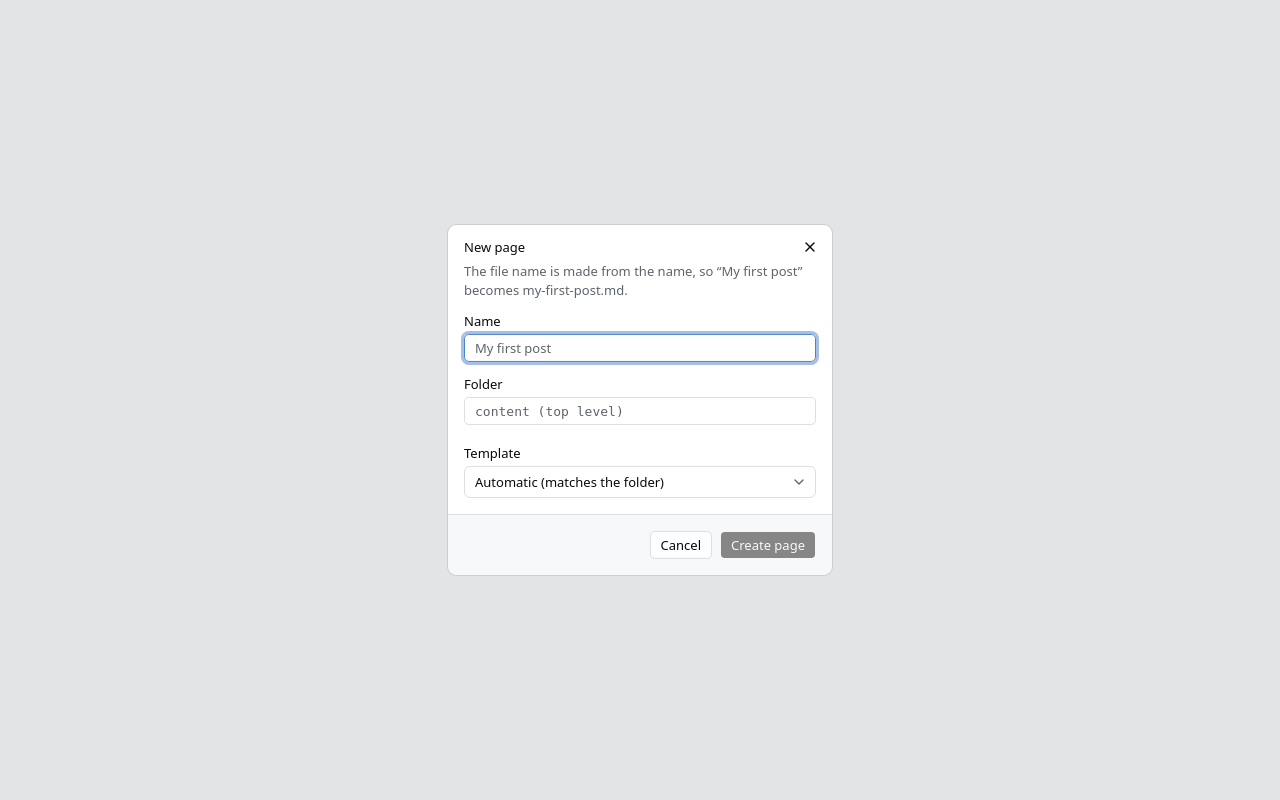
Test: NewPageDialog › shows the backend message and stays open when creating fails
Type "Taken" into the field labelled "Name".
click(640, 348); type("Taken")  # box [464, 334, 816, 362]
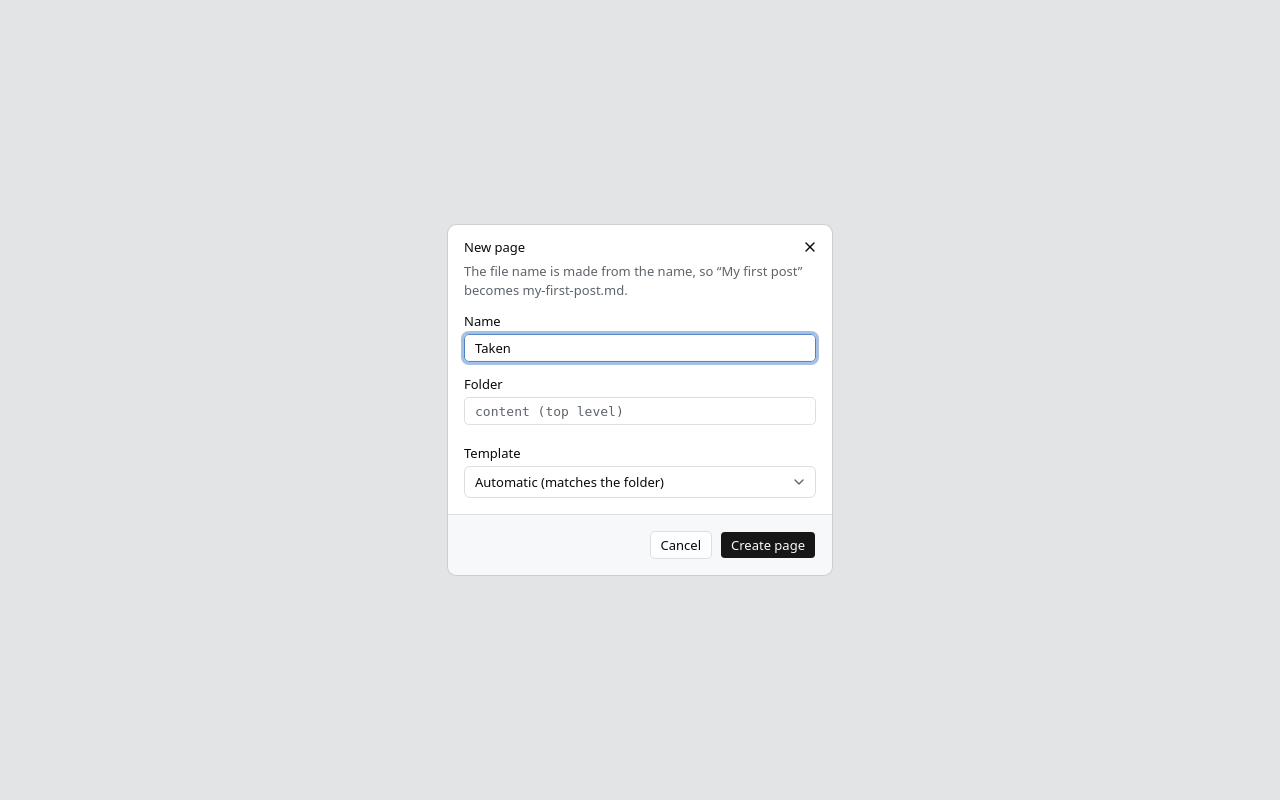
Click the button "Create page".
click(768, 545)  # box [720, 531, 816, 559]
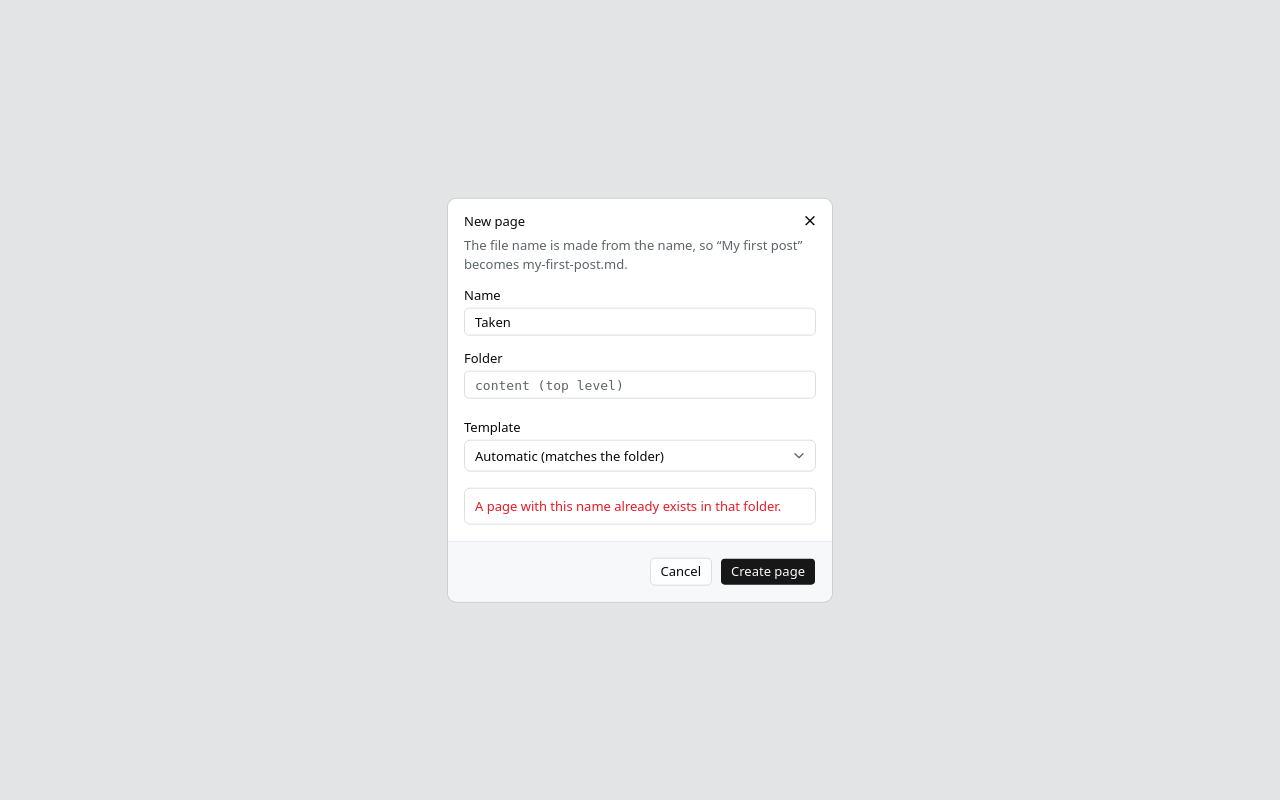
Now the button "Create page" is enabled, box [720, 557, 816, 585]
Now the message shows "already exists", box [475, 497, 781, 515]
